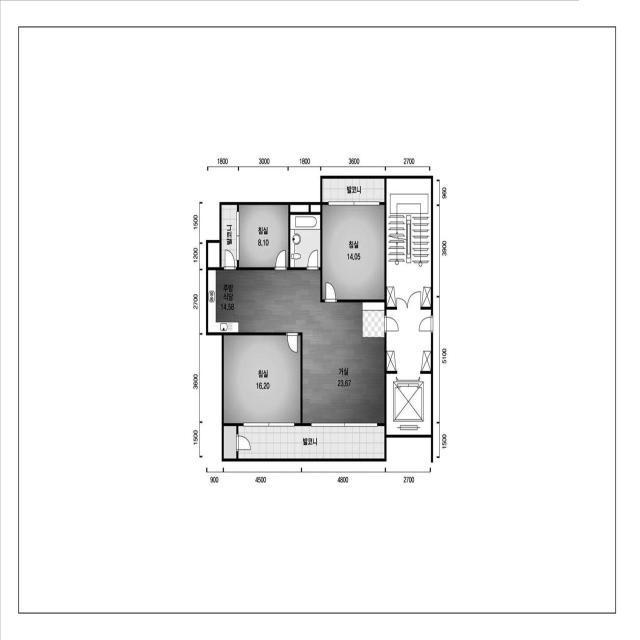background: (0, 0, 640, 640)
space_balconi: (238, 426, 384, 459), (322, 179, 384, 202), (221, 205, 237, 267)
space_bedroom: (224, 335, 301, 423), (322, 205, 384, 300), (239, 205, 288, 268)
space_elevator: (386, 374, 431, 435)
space_elevator_hall: (386, 309, 431, 371)
space_front: (362, 302, 384, 338)
space_kitchen: (208, 270, 239, 333)
space_living_room: (239, 270, 384, 423)
space_other: (224, 426, 236, 459), (208, 243, 219, 267), (290, 205, 309, 212), (311, 205, 320, 212)
space_staircase: (386, 178, 431, 307)
space_toilet: (290, 215, 320, 267)
